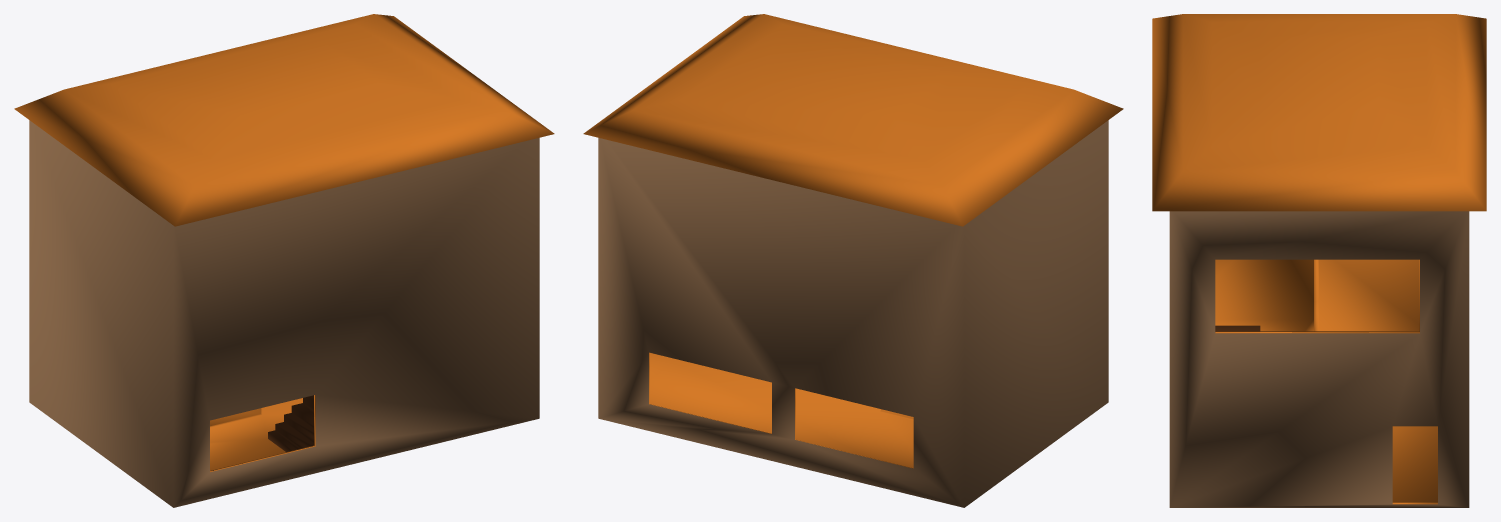
File: House2.fbx
3 renders of one model, left to right at view 1: azimuth 30°, elevation 25°; view 2: azimuth 150°, elevation 25°; view 3: azimuth 270°, elevation 25°, orthographic. The views are drawn at different scales.
Visible parts, largest first — view 1: Cube; view 2: Cube; view 3: Cube.
Boxes of the visible parts, x1,y1,x2,y2 form: Cube: (14, 14, 554, 507); Cube: (583, 14, 1123, 507); Cube: (1152, 14, 1486, 507).
Bounding box in the file's own units: 2531 × 2104 × 1857.
